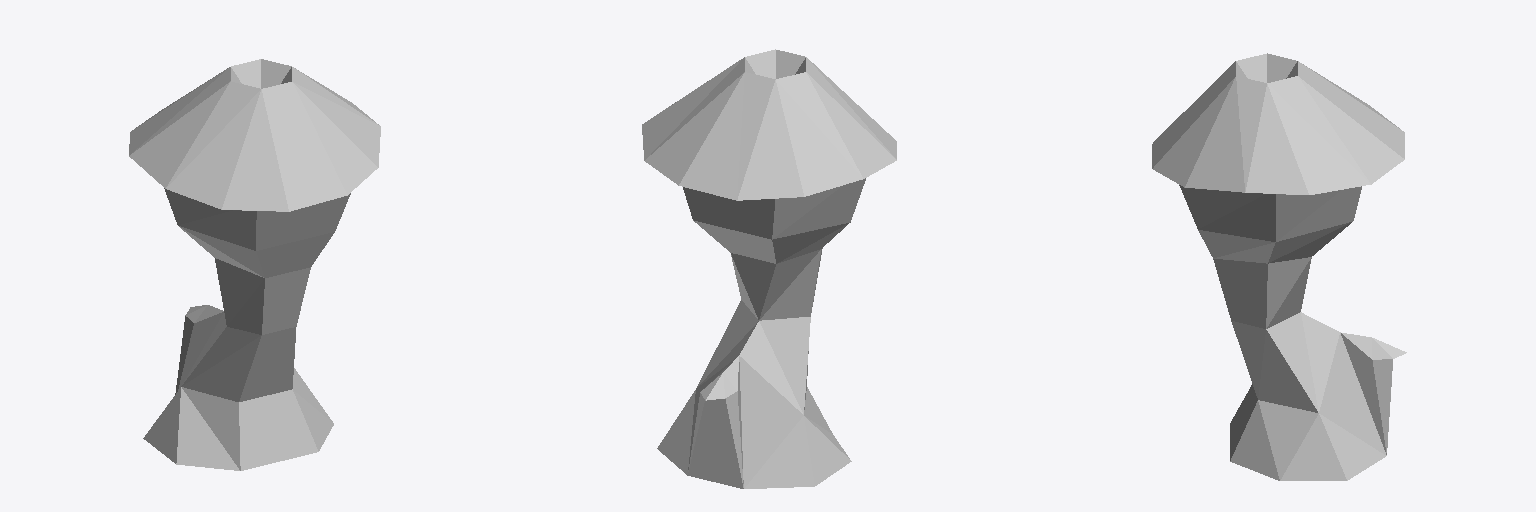
The model's file is red_tower.obj.
3 renders of one model, left to right at view 1: azimuth 30°, elevation 25°; view 2: azimuth 150°, elevation 25°; view 3: azimuth 270°, elevation 25°, orthographic.
Visible parts, largest first — view 1: obj_tex_25, obj_tex_109, obj_tex_127, obj_tex_155, obj_tex_183, obj_tex_227, obj_tex_156; view 2: obj_tex_25, obj_tex_155, obj_tex_109, obj_tex_183, obj_tex_156, obj_tex_127, obj_tex_143, obj_tex_227, obj_tex_12; view 3: obj_tex_25, obj_tex_155, obj_tex_109, obj_tex_183, obj_tex_132, obj_tex_127, obj_tex_227, obj_tex_12.
Part boxes in pixels (x1,y1,x2,y2): obj_tex_25: (129, 67, 380, 322); obj_tex_109: (143, 368, 333, 470); obj_tex_127: (179, 226, 334, 401); obj_tex_155: (181, 258, 264, 401); obj_tex_183: (164, 188, 350, 250); obj_tex_227: (165, 59, 344, 249); obj_tex_156: (178, 312, 223, 389); obj_tex_25: (642, 57, 896, 400); obj_tex_155: (696, 248, 822, 414); obj_tex_109: (657, 387, 851, 488); obj_tex_183: (683, 179, 865, 239); obj_tex_156: (738, 356, 803, 488); obj_tex_127: (693, 220, 850, 319); obj_tex_143: (688, 399, 743, 488); obj_tex_227: (683, 49, 865, 238); obj_tex_12: (688, 391, 743, 487); obj_tex_25: (1152, 61, 1406, 359); obj_tex_155: (1213, 257, 1339, 412); obj_tex_109: (1230, 384, 1385, 480); obj_tex_183: (1179, 185, 1361, 241); obj_tex_132: (1319, 333, 1386, 455); obj_tex_127: (1198, 222, 1351, 263); obj_tex_227: (1180, 53, 1359, 241); obj_tex_12: (1373, 359, 1392, 452).
Bounding box in the file's own units: 1.51 × 2.43 × 1.5.